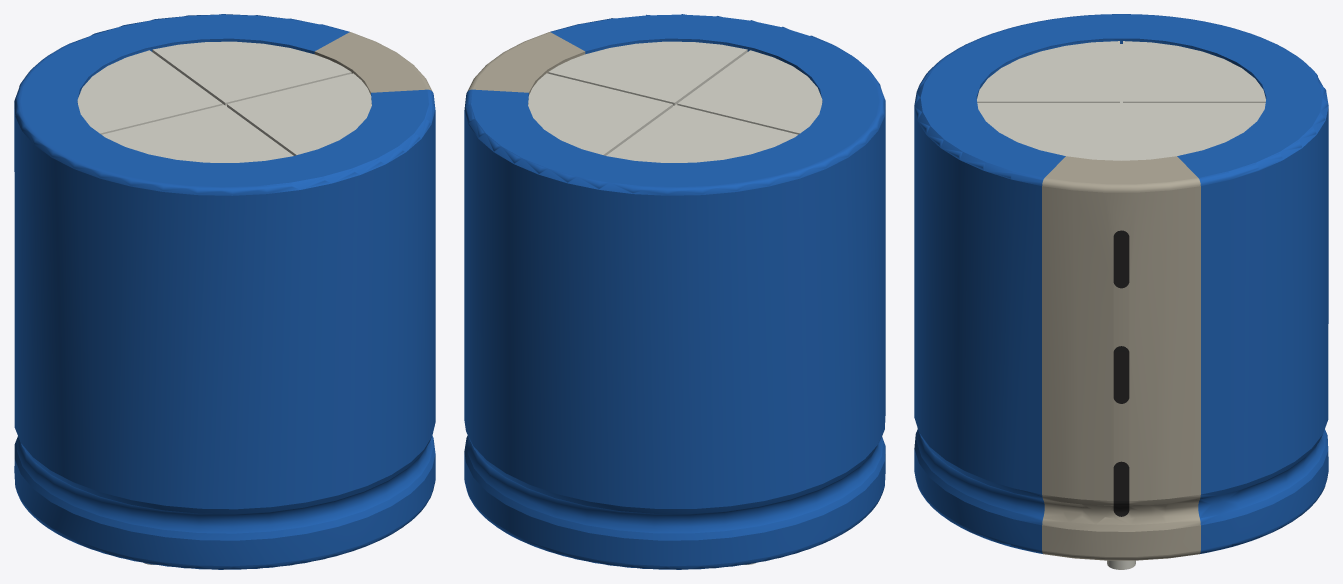
Rendered from kc-cp_radial_d13.0mm_p5.00mm.glb.
3 views of the same model, side by side, from view 1: azimuth 30°, elevation 25°; view 2: azimuth 150°, elevation 25°; view 3: azimuth 270°, elevation 25° (orthographic).
Parts seen in each view (by area): view 1: 0_0.16666666666666666_0.5_0, 0.6666666666666666_0.6666666666666666_0.5833333333333334_0.8, 0.4166666666666667_0.4166666666666667_0.3333333333333333_0; view 2: 0_0.16666666666666666_0.5_0, 0.6666666666666666_0.6666666666666666_0.5833333333333334_0.8, 0.4166666666666667_0.4166666666666667_0.3333333333333333_0; view 3: 0_0.16666666666666666_0.5_0, 0.4166666666666667_0.4166666666666667_0.3333333333333333_0, 0.6666666666666666_0.6666666666666666_0.5833333333333334_0.8, 0_0_0_0.
Boxes of the visible parts, x1,y1,x2,y2 form: 0_0.16666666666666666_0.5_0: (14, 14, 435, 569); 0.6666666666666666_0.6666666666666666_0.5833333333333334_0.8: (77, 41, 371, 564); 0.4166666666666667_0.4166666666666667_0.3333333333333333_0: (314, 32, 432, 94); 0_0.16666666666666666_0.5_0: (464, 14, 885, 569); 0.6666666666666666_0.6666666666666666_0.5833333333333334_0.8: (528, 41, 822, 564); 0.4166666666666667_0.4166666666666667_0.3333333333333333_0: (467, 32, 585, 94); 0_0.16666666666666666_0.5_0: (914, 14, 1328, 553); 0.4166666666666667_0.4166666666666667_0.3333333333333333_0: (1042, 156, 1200, 560); 0.6666666666666666_0.6666666666666666_0.5833333333333334_0.8: (977, 41, 1265, 569); 0_0_0_0: (1113, 230, 1129, 516).
Bounding box in the file's own units: 1.3 × 1.5 × 1.3.
